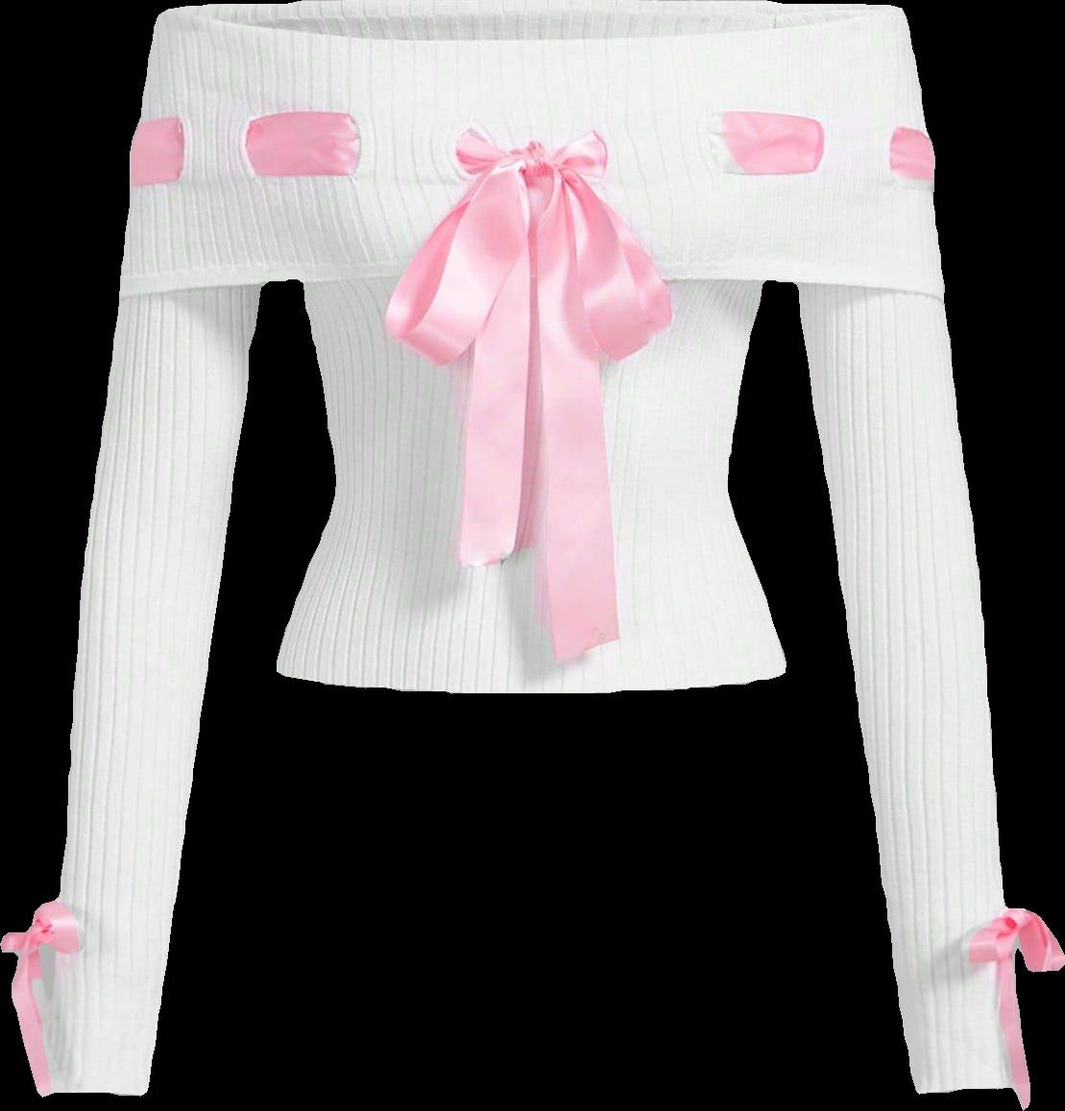Bodice: (119, 0, 988, 705)
Neckline: (157, 4, 893, 51)
Sleeve: (795, 283, 1029, 1093), (35, 287, 261, 1096)
Sleeveline: (795, 278, 947, 312), (115, 271, 264, 303)
Waistline: (119, 263, 947, 310), (275, 655, 789, 700)
